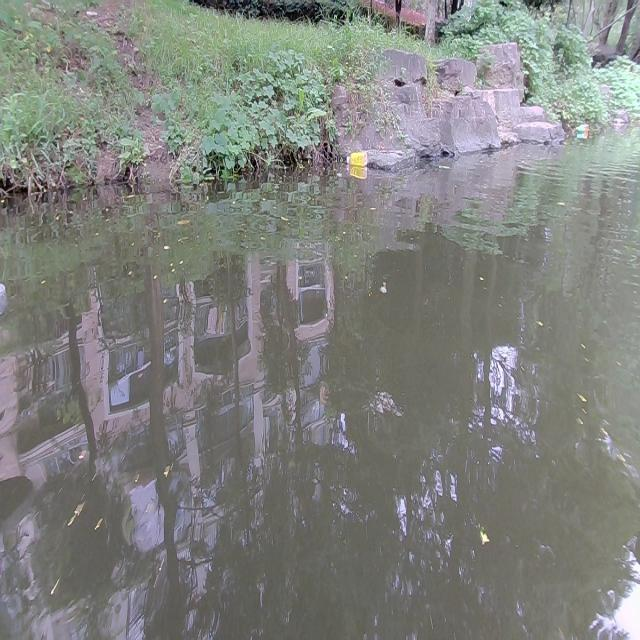bottle: (345, 151, 369, 168), (580, 122, 590, 134), (574, 124, 584, 135)
